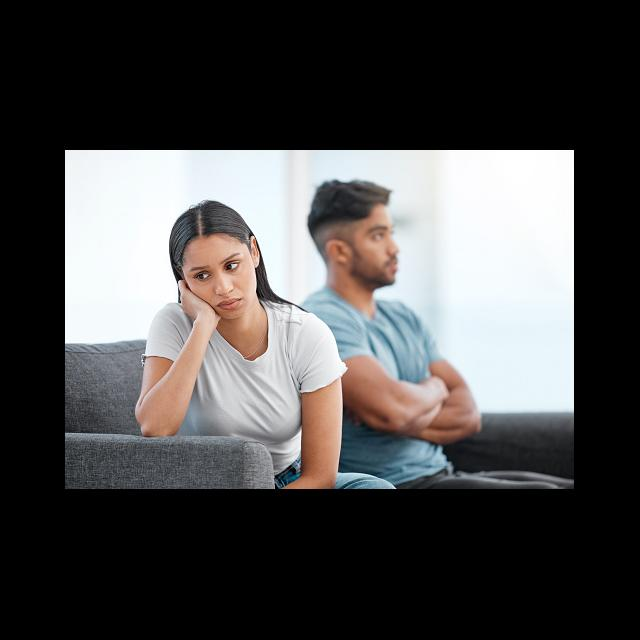female: (135, 209, 290, 313)
male: (305, 172, 410, 282)
